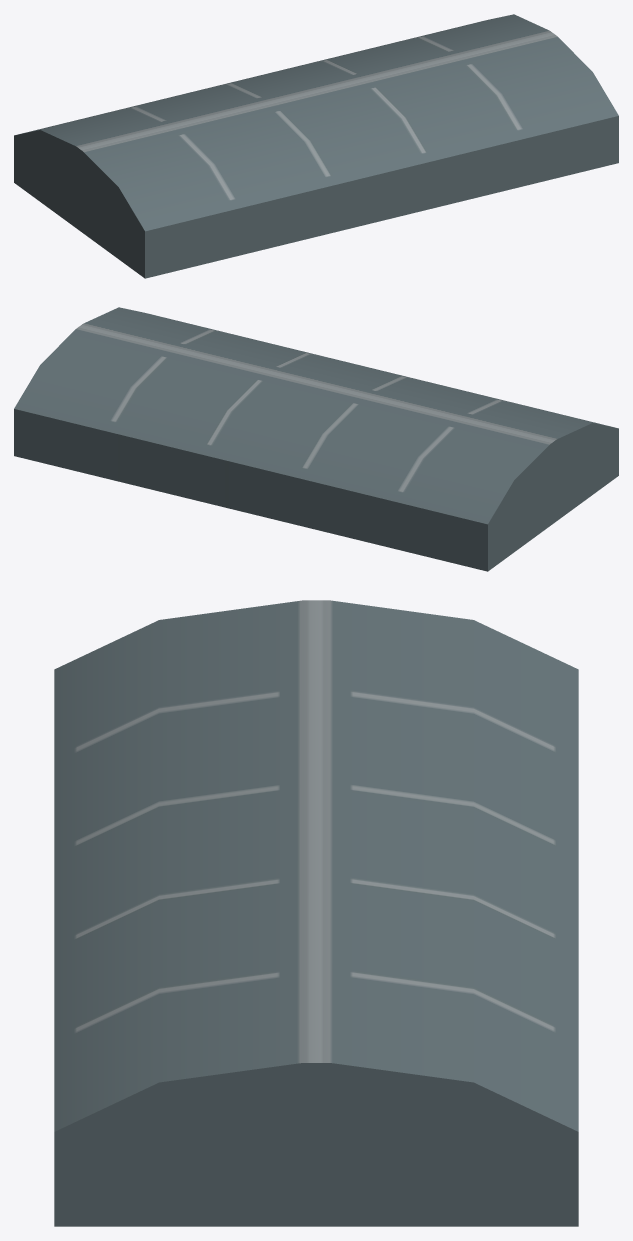
The model's file is fbx_school_outdoor_roof2.fbx.
3 renders of one model, top to bottom at view 1: azimuth 30°, elevation 25°; view 2: azimuth 150°, elevation 25°; view 3: azimuth 270°, elevation 25°, orthographic. The views are drawn at different scales.
Visible parts, largest first — view 1: fbx_school_outdoor_roof2; view 2: fbx_school_outdoor_roof2; view 3: fbx_school_outdoor_roof2.
Boxes of the visible parts, left/top/right/bottom form: fbx_school_outdoor_roof2: left=14, top=14, right=618, bottom=278; fbx_school_outdoor_roof2: left=14, top=307, right=618, bottom=571; fbx_school_outdoor_roof2: left=54, top=600, right=578, bottom=1226.
Bounding box in the file's own units: 3.89 × 0.6415 × 1.86.
1 material, 1 textured.
